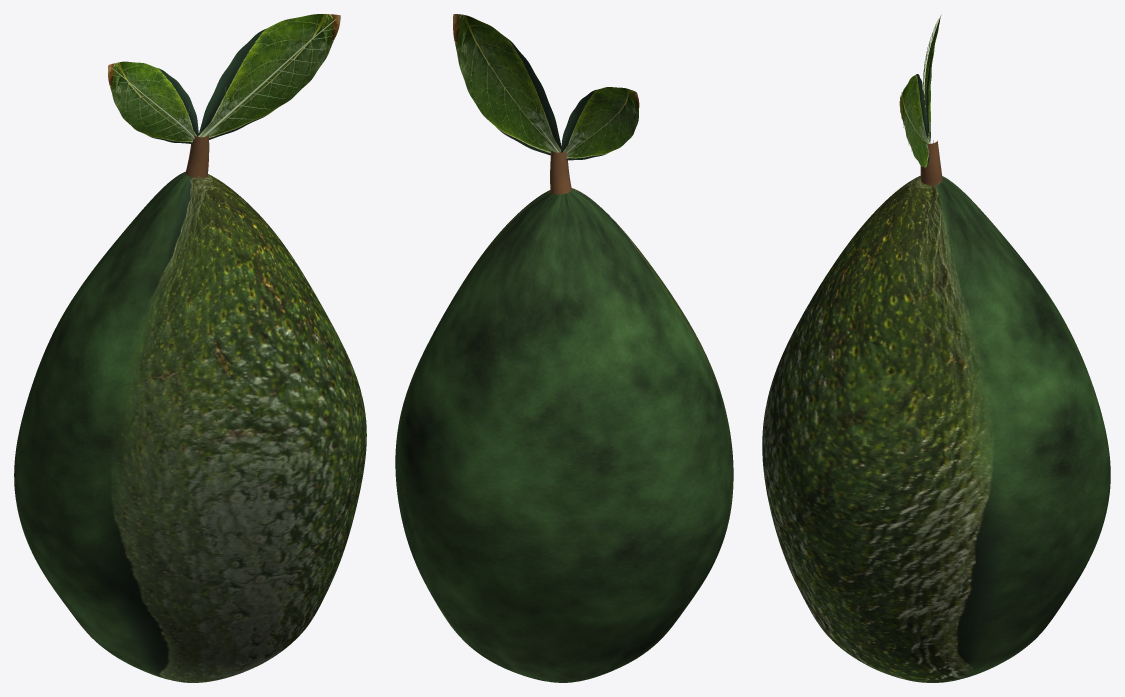
The model's file is aguacate.glb.
The picture shows the model from 3 angles, left to right: view 1: azimuth 30°, elevation 25°; view 2: azimuth 150°, elevation 25°; view 3: azimuth 270°, elevation 25°; orthographic projection. The views are drawn at different scales.
Visible parts, largest first — view 1: Fruto, Leaf 2 part 1, Leaf 1 part 1, Leaf 2 part 2, Woody fruit stem, Leaf 1 part 2; view 2: Fruto, Leaf 2 part 1, Leaf 1 part 1, Woody fruit stem; view 3: Fruto, Leaf 2 part 1, Woody fruit stem, Leaf 1 part 1.
Boxes of the visible parts, box(x1,y1,x2,y2) form: Fruto: box(14, 171, 366, 682); Leaf 2 part 1: box(198, 14, 340, 139); Leaf 1 part 1: box(108, 61, 198, 143); Leaf 2 part 2: box(201, 17, 336, 137); Woody fruit stem: box(185, 135, 209, 179); Leaf 1 part 2: box(110, 65, 194, 139); Fruto: box(395, 188, 733, 682); Leaf 2 part 1: box(453, 14, 561, 155); Leaf 1 part 1: box(560, 87, 639, 160); Woody fruit stem: box(549, 150, 571, 194); Fruto: box(762, 176, 1110, 682); Leaf 2 part 1: box(899, 74, 929, 167); Woody fruit stem: box(920, 140, 942, 187); Leaf 1 part 1: box(924, 15, 941, 143).
Size of the model in its own units: 1.98 by 4.02 by 1.98.
Materials: 4 (2 with a texture image).
